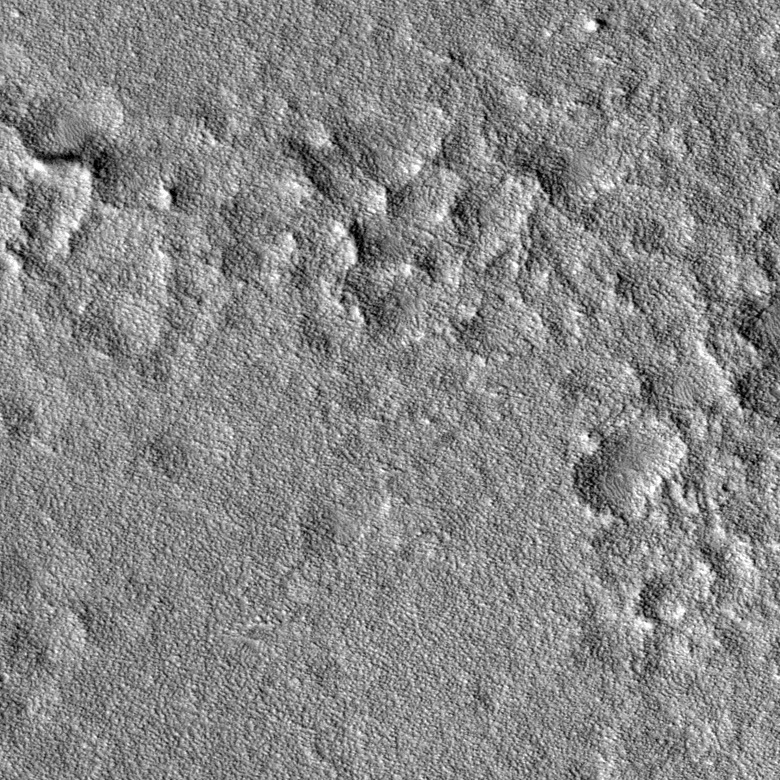dust_devil: (29, 148, 83, 176)
